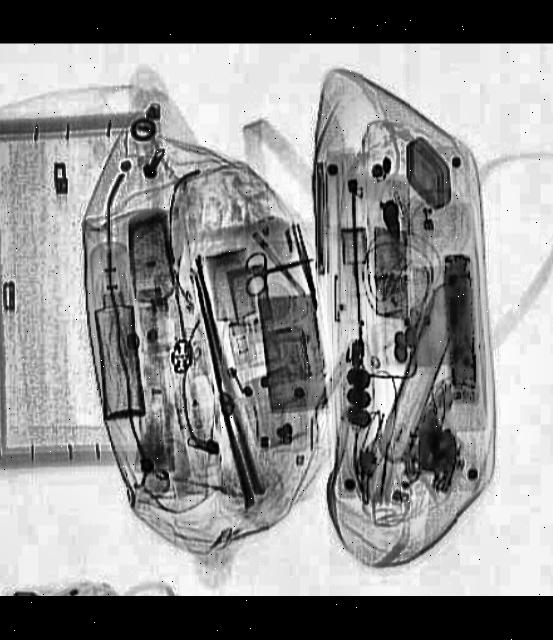Scissors: (234, 239, 317, 296)
